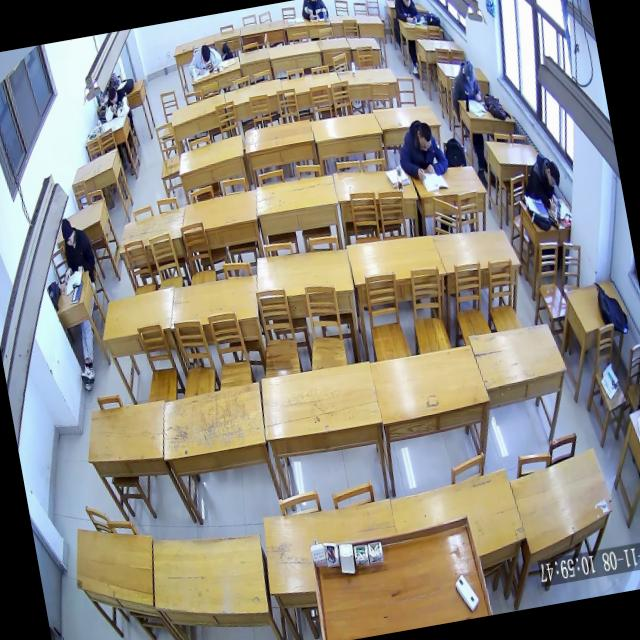bow: (183, 38, 225, 78)
down: (414, 119, 435, 154), (58, 216, 78, 250), (543, 158, 562, 191), (460, 58, 478, 86), (198, 42, 214, 66), (105, 84, 120, 108), (399, 0, 413, 9)
sit: (390, 114, 450, 186), (52, 212, 100, 285), (520, 146, 566, 218), (444, 55, 483, 107), (98, 81, 132, 123), (390, 0, 422, 28)
